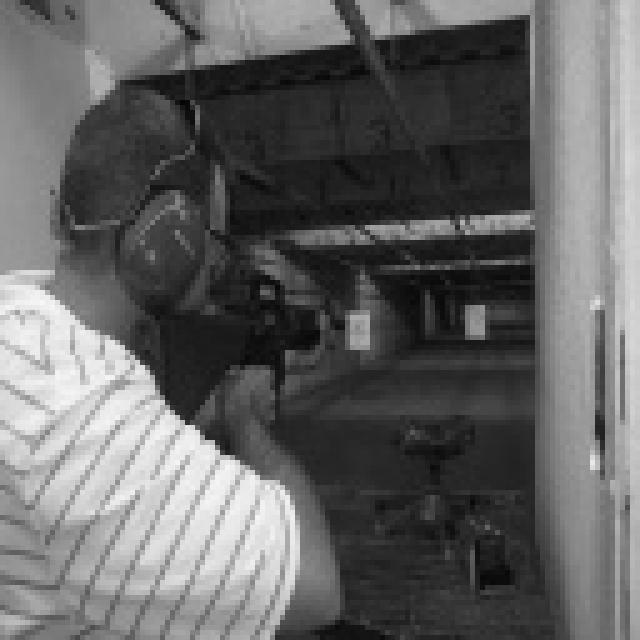Rifle: (126, 271, 342, 444)
